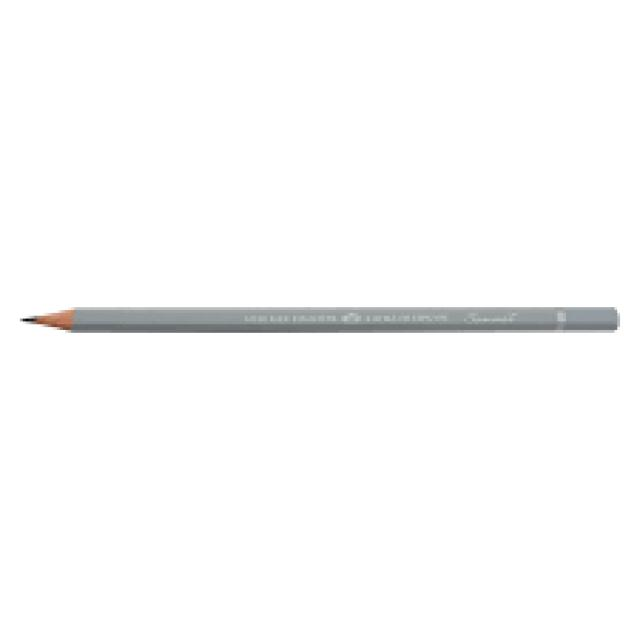pencil: (19, 301, 632, 334)
